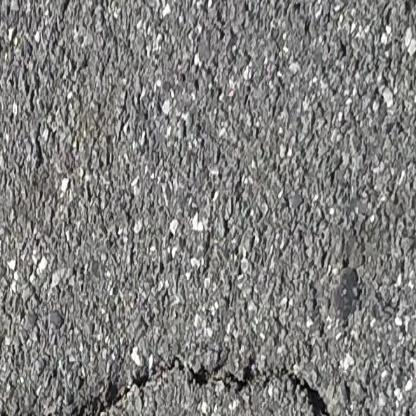Cracks: (0, 322, 415, 416)
